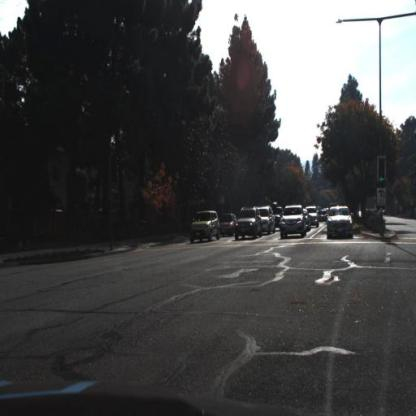car: (187, 209, 221, 245), (232, 206, 264, 241), (278, 202, 305, 238), (326, 204, 352, 239), (260, 204, 276, 234), (220, 212, 236, 237), (307, 204, 319, 227)
trafficLight-GreenLeft: (377, 156, 386, 188)
